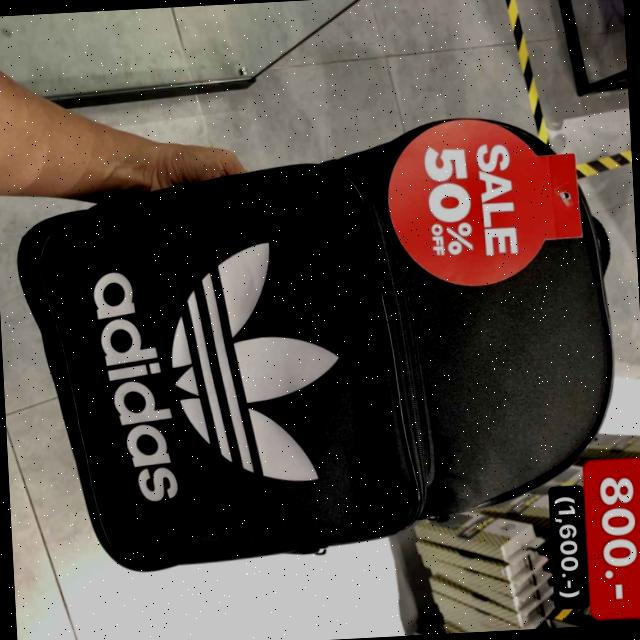handbag: (17, 116, 626, 563)
